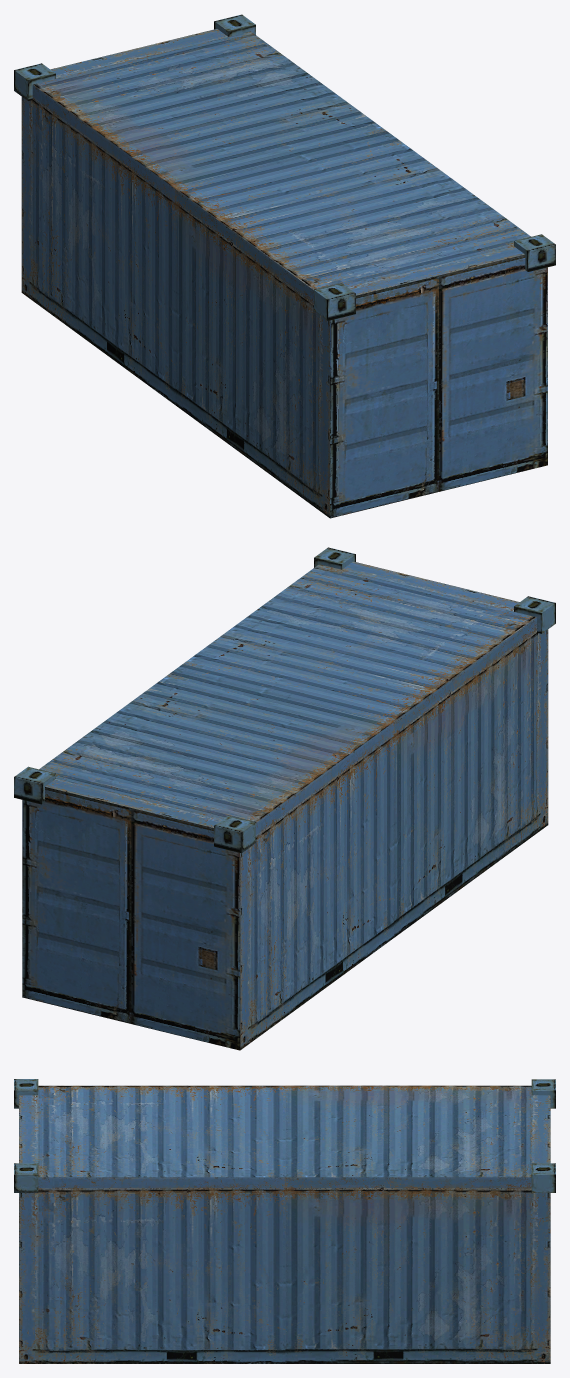
File: Cover_Container05.glb
The picture shows the model from 3 angles, top to bottom: view 1: azimuth 30°, elevation 25°; view 2: azimuth 150°, elevation 25°; view 3: azimuth 270°, elevation 25°; orthographic projection. The views are drawn at different scales.
Parts seen in each view (by area): view 1: xiutz_container05; view 2: xiutz_container05; view 3: xiutz_container05.
Boxes of the visible parts, left/top/right/bottom form: xiutz_container05: left=14, top=14, right=555, bottom=518; xiutz_container05: left=14, top=547, right=555, bottom=1050; xiutz_container05: left=14, top=1079, right=555, bottom=1363.
Bounding box in the file's own units: 4.79 × 4.44 × 11.43.
Materials: 1 (1 with a texture image).
